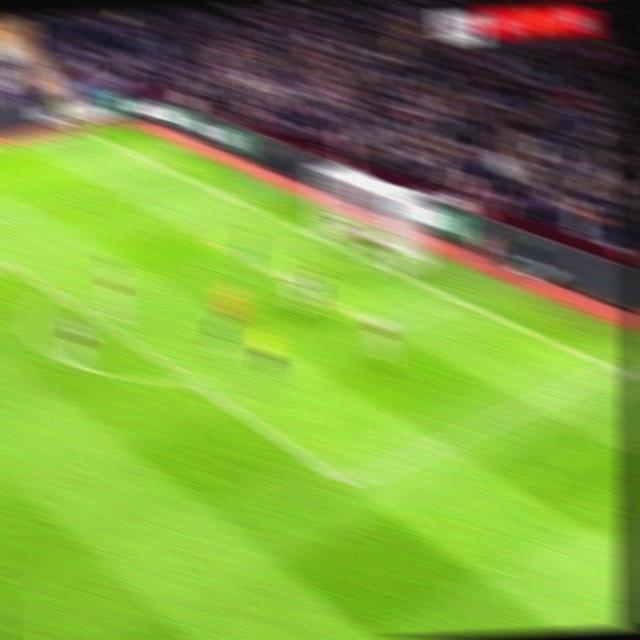bigarea_bottom_inner: (331, 464, 368, 502)
bigarea_bottom_outter: (600, 354, 632, 384)
bigarea_top_outter: (166, 163, 193, 183)
bottom_arc_area_intersection: (173, 365, 205, 393)
corner: (70, 123, 100, 141)
smallarea_bottom_outter: (443, 285, 473, 313)
smallarea_top_inner: (187, 221, 216, 248)
smallarea_top_outter: (256, 201, 285, 227)
top_arc_area_intersection: (38, 277, 65, 300)
